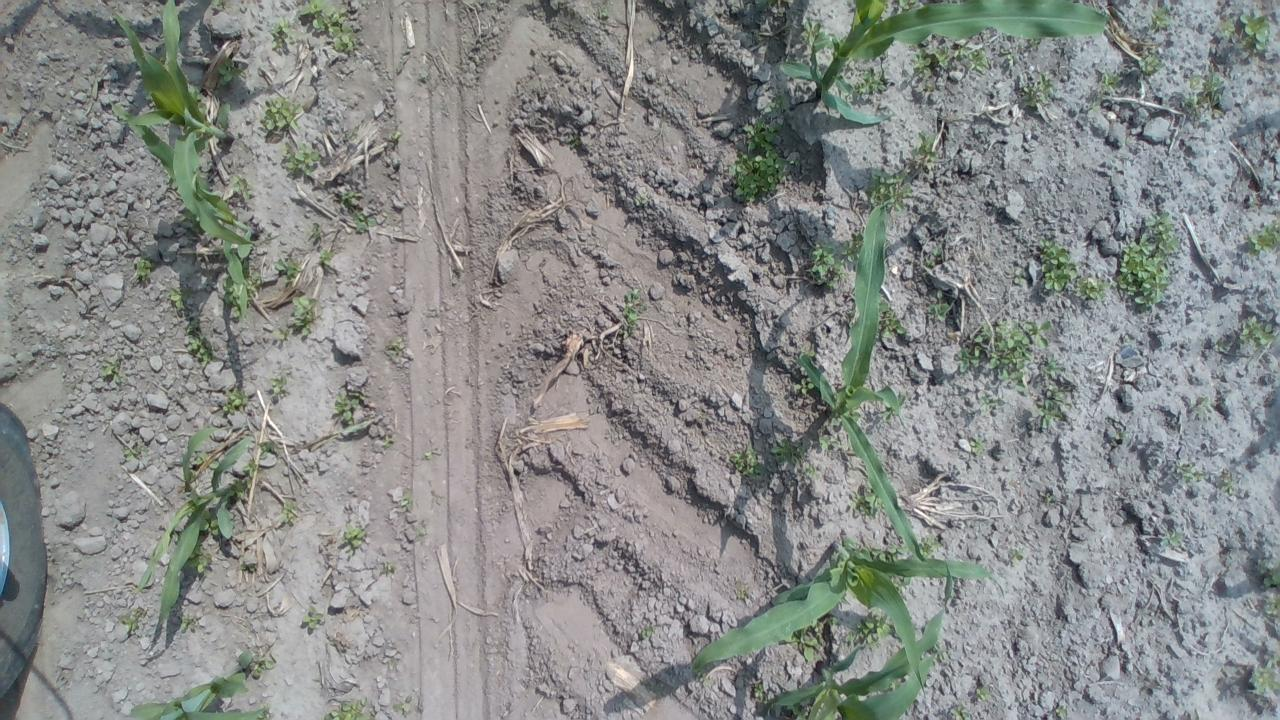Maize: (791, 200, 936, 566), (691, 535, 996, 696), (778, 0, 1110, 130), (111, 0, 254, 249), (107, 96, 260, 320), (772, 563, 952, 720), (135, 425, 254, 645), (128, 653, 262, 720)
Weeds: (956, 316, 1060, 394), (729, 115, 801, 205), (1116, 212, 1180, 310), (1038, 234, 1108, 304), (913, 44, 992, 92), (224, 229, 264, 321), (296, 0, 360, 53), (866, 168, 911, 214), (846, 609, 899, 648), (807, 241, 848, 288), (330, 387, 366, 437), (1184, 72, 1224, 115), (258, 96, 304, 133), (184, 321, 218, 369), (787, 621, 824, 664), (280, 140, 322, 176), (284, 295, 318, 338), (1236, 314, 1276, 349), (1238, 14, 1270, 56), (1038, 387, 1068, 430), (846, 63, 886, 95), (876, 297, 908, 337), (1251, 654, 1280, 696), (1248, 218, 1280, 254), (623, 288, 646, 338), (909, 130, 940, 167), (1022, 73, 1054, 108), (214, 55, 248, 87), (325, 698, 374, 720), (730, 448, 764, 479), (268, 17, 298, 52), (771, 436, 806, 466), (850, 490, 884, 520), (273, 256, 305, 284), (184, 545, 212, 576), (840, 230, 864, 266), (787, 21, 824, 44), (226, 172, 253, 200), (920, 642, 949, 668), (118, 606, 144, 634), (343, 522, 368, 550), (132, 253, 156, 282), (198, 508, 222, 537), (871, 544, 909, 562), (926, 290, 948, 321), (98, 358, 124, 384), (918, 534, 944, 560), (222, 387, 248, 411), (166, 283, 189, 310), (1260, 561, 1280, 590), (1098, 72, 1122, 96), (793, 367, 814, 394), (353, 212, 378, 234), (1149, 7, 1170, 32), (1180, 465, 1206, 485), (979, 395, 1004, 415), (302, 608, 323, 631), (826, 34, 847, 57), (890, 574, 911, 596), (1140, 54, 1162, 75), (1216, 18, 1236, 40), (820, 433, 844, 451), (121, 446, 149, 461), (923, 246, 941, 269), (272, 374, 290, 397), (754, 0, 794, 10), (1192, 395, 1210, 417), (764, 96, 786, 114), (384, 336, 402, 358), (892, 0, 918, 15), (280, 503, 298, 524), (1265, 594, 1280, 618), (178, 614, 199, 631), (392, 697, 410, 716), (253, 658, 273, 675), (754, 683, 768, 707), (950, 705, 972, 720), (236, 480, 252, 500), (1166, 528, 1182, 548), (974, 686, 994, 702), (696, 669, 712, 688), (318, 247, 334, 266), (1000, 47, 1015, 66), (272, 326, 289, 342), (969, 437, 985, 454), (1086, 95, 1102, 112), (307, 222, 321, 241), (340, 191, 360, 204), (803, 463, 819, 479), (1012, 268, 1027, 285), (882, 404, 896, 422), (255, 704, 270, 720), (188, 84, 203, 100), (634, 191, 649, 207), (898, 391, 912, 408), (242, 459, 256, 476), (1222, 478, 1235, 496), (238, 562, 258, 573), (400, 493, 412, 511), (640, 626, 655, 640), (848, 408, 862, 423), (886, 678, 902, 691), (417, 67, 431, 81), (1042, 492, 1056, 505), (566, 134, 579, 148), (1011, 548, 1024, 562), (259, 443, 275, 454), (874, 10, 888, 22), (194, 451, 206, 465), (388, 130, 402, 142), (144, 93, 156, 106), (208, 458, 220, 471), (598, 6, 611, 18), (1056, 705, 1067, 719), (1028, 38, 1040, 50), (382, 560, 392, 574), (754, 30, 764, 44), (415, 526, 427, 537), (828, 616, 841, 626), (380, 439, 391, 450), (210, 0, 223, 9), (792, 355, 801, 366), (736, 590, 747, 598), (804, 350, 816, 357), (423, 452, 432, 460), (1118, 431, 1126, 439), (872, 690, 881, 696)
